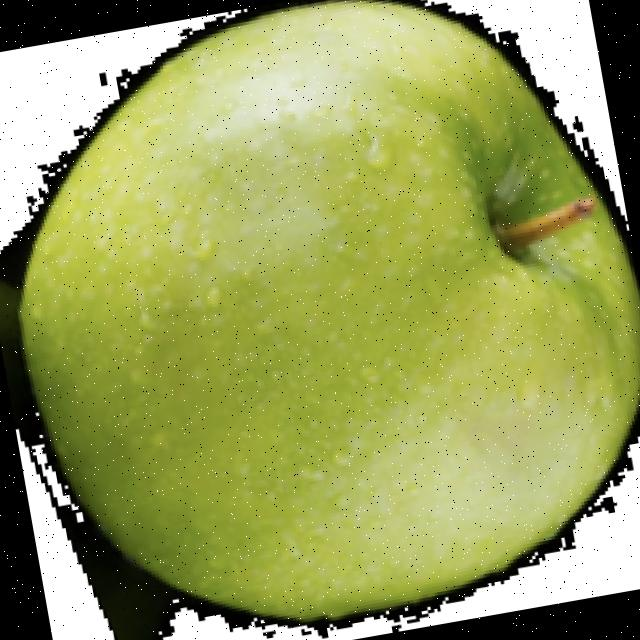apple: (1, 0, 640, 640)
